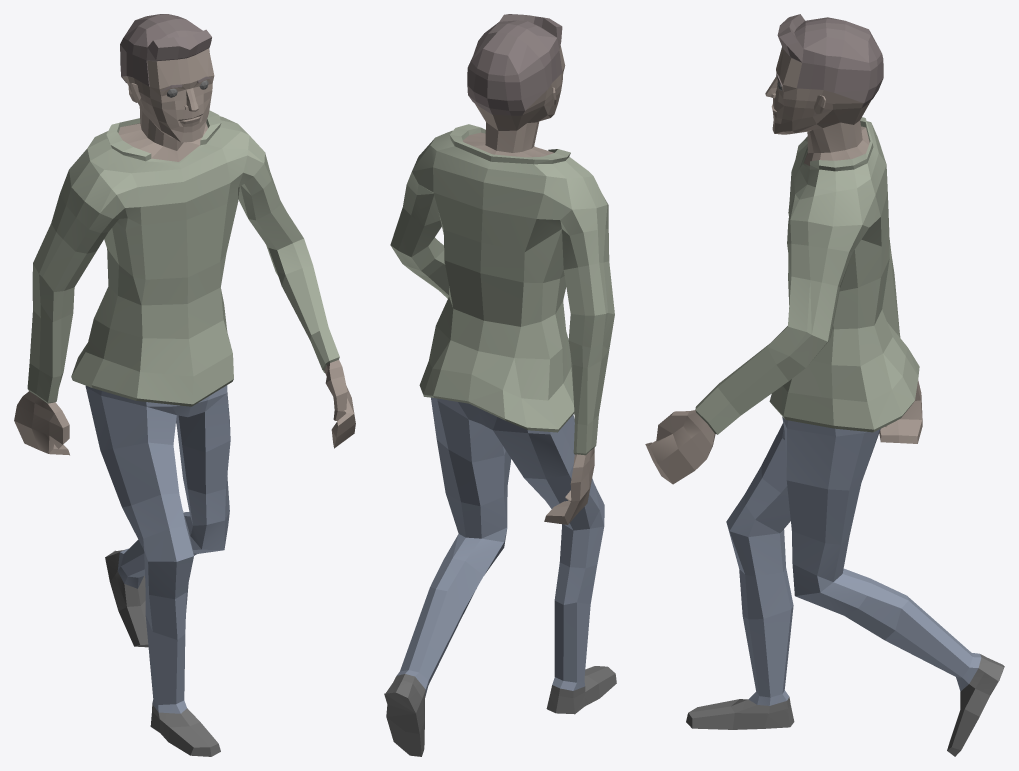
The model's file is walk_11.glb.
3 views of the same model, side by side, from view 1: azimuth 30°, elevation 25°; view 2: azimuth 150°, elevation 25°; view 3: azimuth 270°, elevation 25° (orthographic). The views are drawn at different scales.
Parts seen in each view (by area): view 1: BaseHuman_baked; view 2: BaseHuman_baked; view 3: BaseHuman_baked.
Part boxes in pixels (bbox=[...]): BaseHuman_baked: bbox=[14, 14, 355, 756]; BaseHuman_baked: bbox=[384, 14, 616, 756]; BaseHuman_baked: bbox=[645, 14, 1004, 756].
Bounding box in the file's own units: 1.65 × 4.65 × 2.13.
